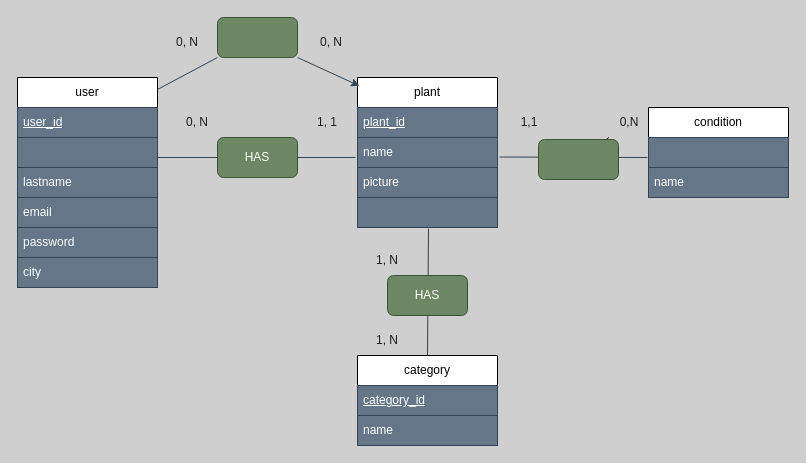
Some shapes in this 806 by 463 pixel diagram are drawn without their labels. Here are the shapes that lost their labels. From the top down, the box of each, then its label:
(216, 16, 298, 58): LIKE
(16, 136, 158, 168): firstname
(538, 138, 618, 180): IS
(648, 136, 788, 168): condition_id
(356, 196, 498, 228): quantity
